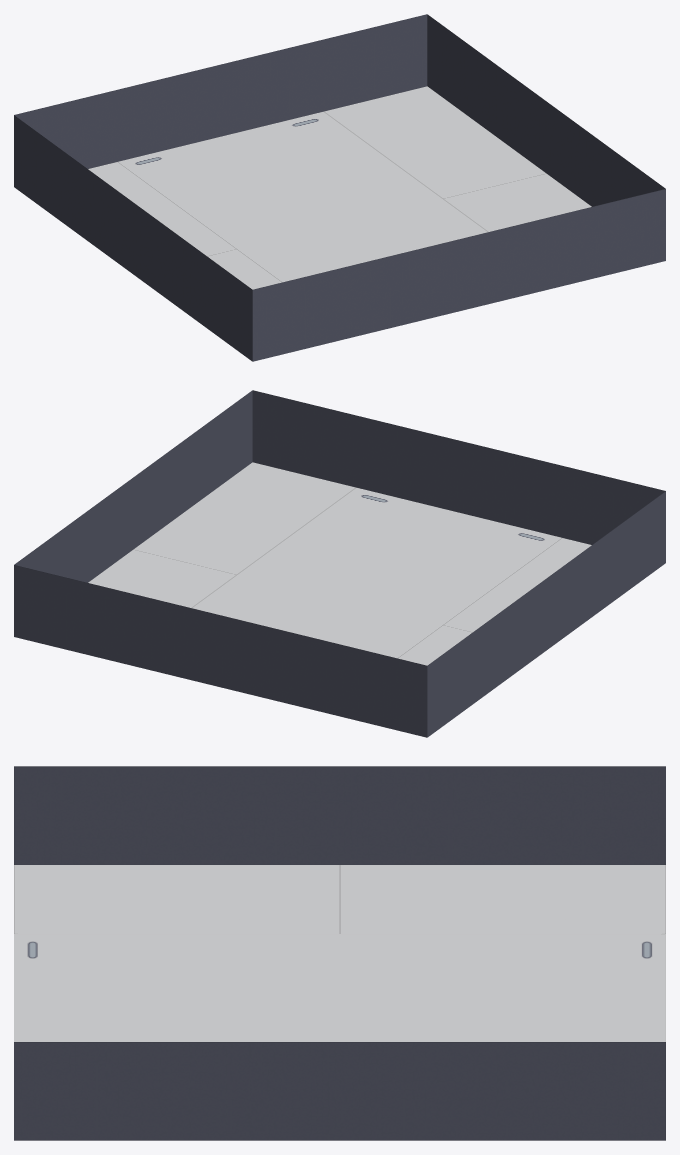
The model's file is Roof_03.FBX.
The picture shows the model from 3 angles, top to bottom: view 1: azimuth 30°, elevation 25°; view 2: azimuth 150°, elevation 25°; view 3: azimuth 270°, elevation 25°; orthographic projection. The views are drawn at different scales.
Parts seen in each view (by area): view 1: Roof_03; view 2: Roof_03; view 3: Roof_03.
Boxes of the visible parts, box(x1,y1,x2,y2) form: Roof_03: box(14, 14, 665, 361); Roof_03: box(14, 390, 665, 737); Roof_03: box(14, 766, 665, 1140).
Size of the model in its own units: 6 by 1 by 6.
